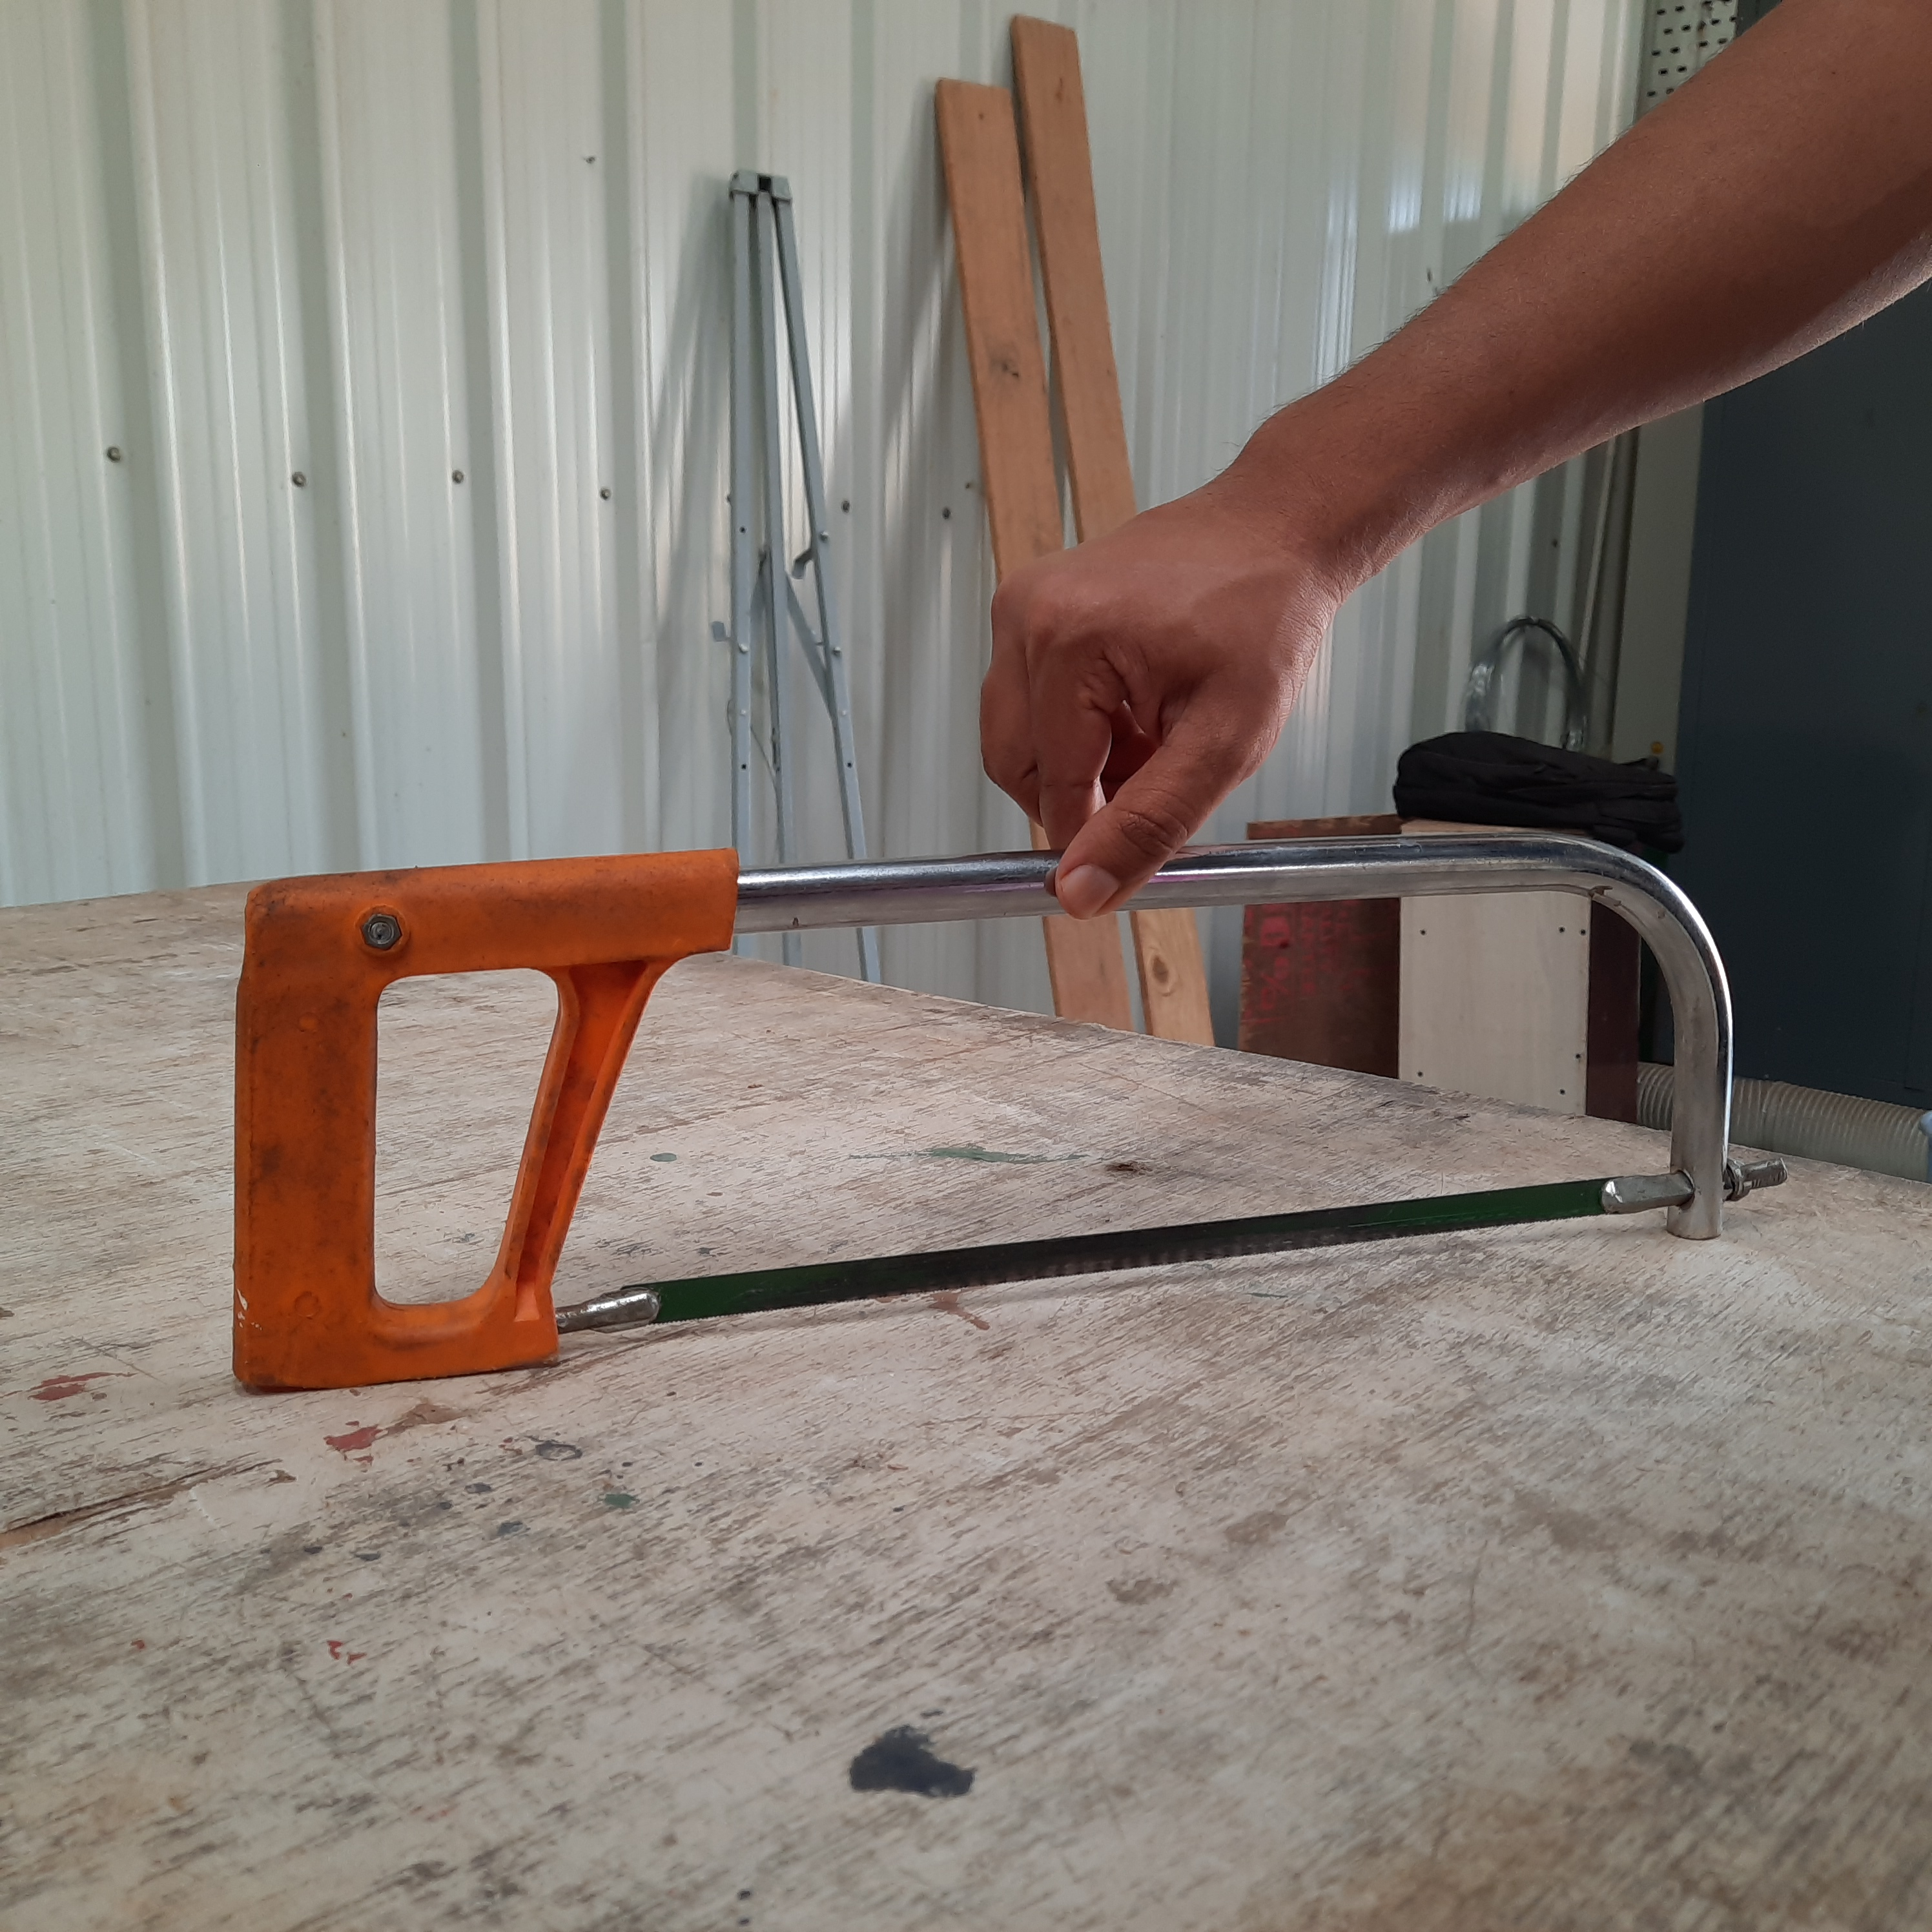Hexaframe: (173, 810, 1835, 1380)
